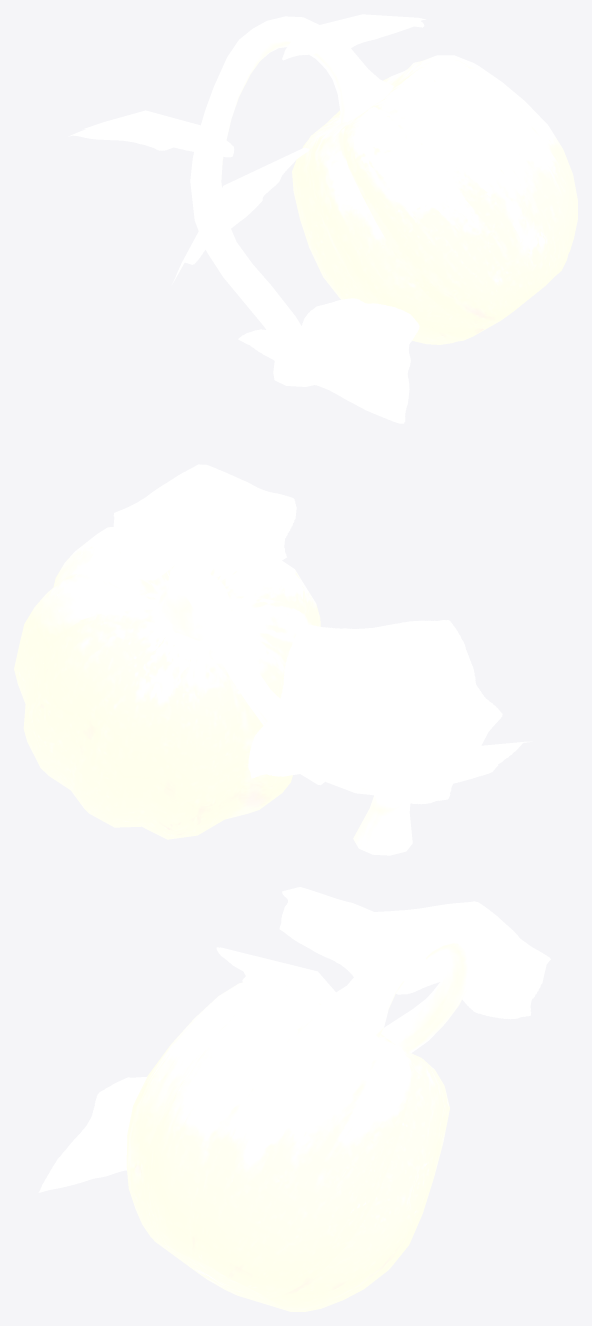
3 views of the same model, one above another, from view 1: azimuth 30°, elevation 25°; view 2: azimuth 150°, elevation 25°; view 3: azimuth 270°, elevation 25° (orthographic). The views are drawn at different scales.
Parts seen in each view (by area): view 1: SM_Pumpkin_02v4_LOD0; view 2: SM_Pumpkin_02v4_LOD0; view 3: SM_Pumpkin_02v4_LOD0.
Part boxes in pixels (bbox=[...]): SM_Pumpkin_02v4_LOD0: bbox=[68, 14, 577, 423]; SM_Pumpkin_02v4_LOD0: bbox=[14, 464, 532, 855]; SM_Pumpkin_02v4_LOD0: bbox=[38, 887, 550, 1311].
Size of the model in its own units: 1.01 by 0.7041 by 0.9967.
1 material, 1 textured.
